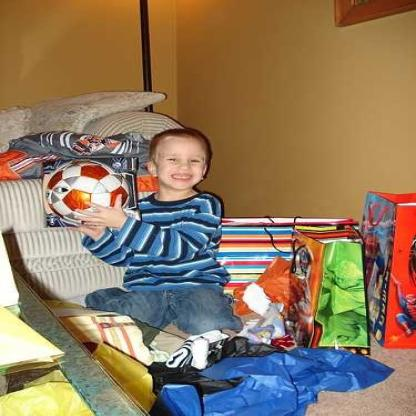ball: (46, 159, 130, 226)
